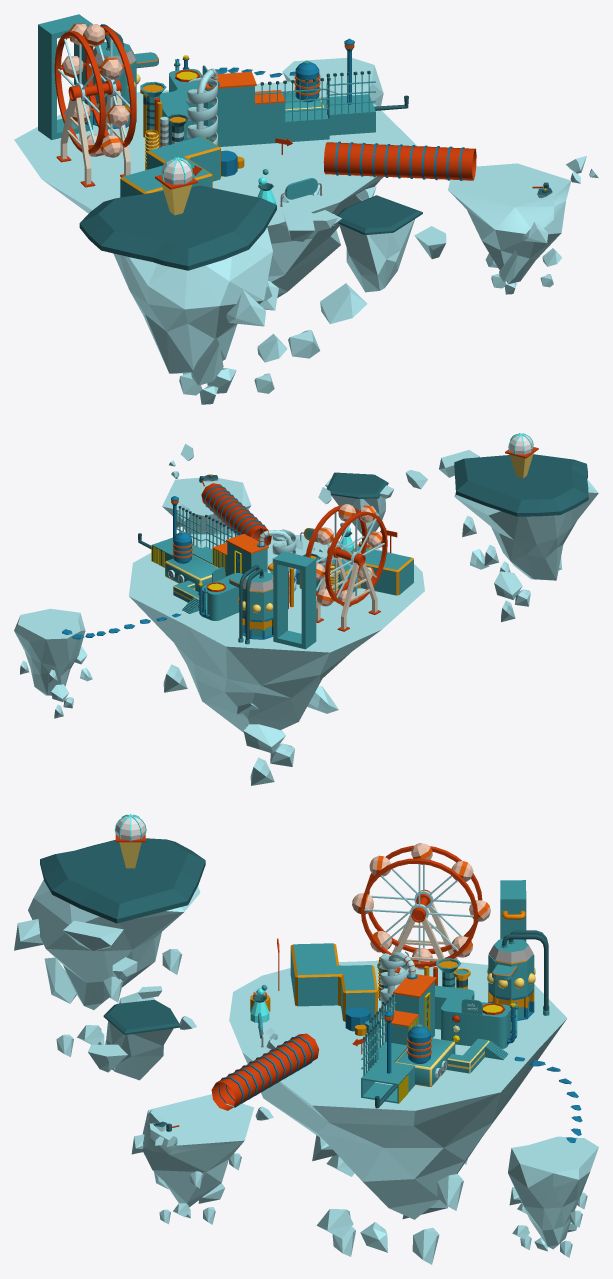
Rendered from unity_evreni_sahne02.fbx.
3 renders of one model, top to bottom at view 1: azimuth 30°, elevation 25°; view 2: azimuth 150°, elevation 25°; view 3: azimuth 270°, elevation 25°, orthographic. The views are drawn at different scales.
Parts seen in each view (by area): view 1: Icosphere.003, Icosphere, Icosphere.002, Sphere.019, silindir, dönme dolap circle, Sphere.012, Object, Cube.009, p_05, Sphere.008, Icosphere.001 (+16 smaller); view 2: Icosphere, Icosphere.003, Icosphere.001, Object, Sphere.008, dönme dolap circle, Icosphere.002, Sphere.019, Cube.009, Sphere.012, silindir, gazp_01 (+11 smaller); view 3: Icosphere, Icosphere.003, Icosphere.002, Icosphere.001, Cube.009, Sphere.019, dönme dolap circle, Sphere.008, silindir, Sphere.012, p_06, gazp_01 (+15 smaller).
Part boxes in pixels (bbox=[...]): Icosphere.003: bbox=[79, 185, 276, 373]; Icosphere: bbox=[14, 81, 417, 297]; Icosphere.002: bbox=[448, 163, 571, 284]; Sphere.019: bbox=[337, 195, 422, 292]; silindir: bbox=[323, 141, 476, 180]; dönme dolap circle: bbox=[54, 25, 136, 153]; Sphere.012: bbox=[179, 282, 287, 404]; Object: bbox=[38, 14, 92, 139]; Cube.009: bbox=[120, 136, 220, 197]; p_05: bbox=[201, 71, 256, 146]; Sphere.008: bbox=[183, 281, 367, 393]; Icosphere.001: bbox=[282, 57, 383, 106]; Icosphere: bbox=[129, 534, 424, 732]; Icosphere.003: bbox=[454, 454, 598, 580]; Icosphere.001: bbox=[14, 608, 85, 695]; Object: bbox=[273, 551, 316, 649]; Sphere.008: bbox=[163, 664, 338, 785]; dönme dolap circle: bbox=[305, 505, 387, 605]; Icosphere.002: bbox=[162, 477, 251, 534]; Sphere.019: bbox=[326, 472, 388, 540]; Cube.009: bbox=[299, 546, 413, 595]; Sphere.012: bbox=[462, 515, 562, 622]; silindir: bbox=[201, 483, 271, 545]; gazp_01: bbox=[242, 571, 273, 639]; Icosphere: bbox=[229, 960, 567, 1219]; Icosphere.003: bbox=[28, 838, 205, 1009]; Icosphere.002: bbox=[142, 1094, 254, 1207]; Icosphere.001: bbox=[508, 1136, 598, 1249]; Cube.009: bbox=[290, 943, 377, 1021]; Sphere.019: bbox=[103, 999, 180, 1080]; dönme dolap circle: bbox=[360, 845, 485, 967]; Sphere.008: bbox=[312, 1135, 467, 1264]; silindir: bbox=[211, 1033, 319, 1110]; Sphere.012: bbox=[14, 919, 182, 1057]; p_06: bbox=[435, 985, 510, 1048]; gazp_01: bbox=[488, 939, 534, 1021].
Size of the model in its own units: 95.96 by 98.89 by 68.37.
